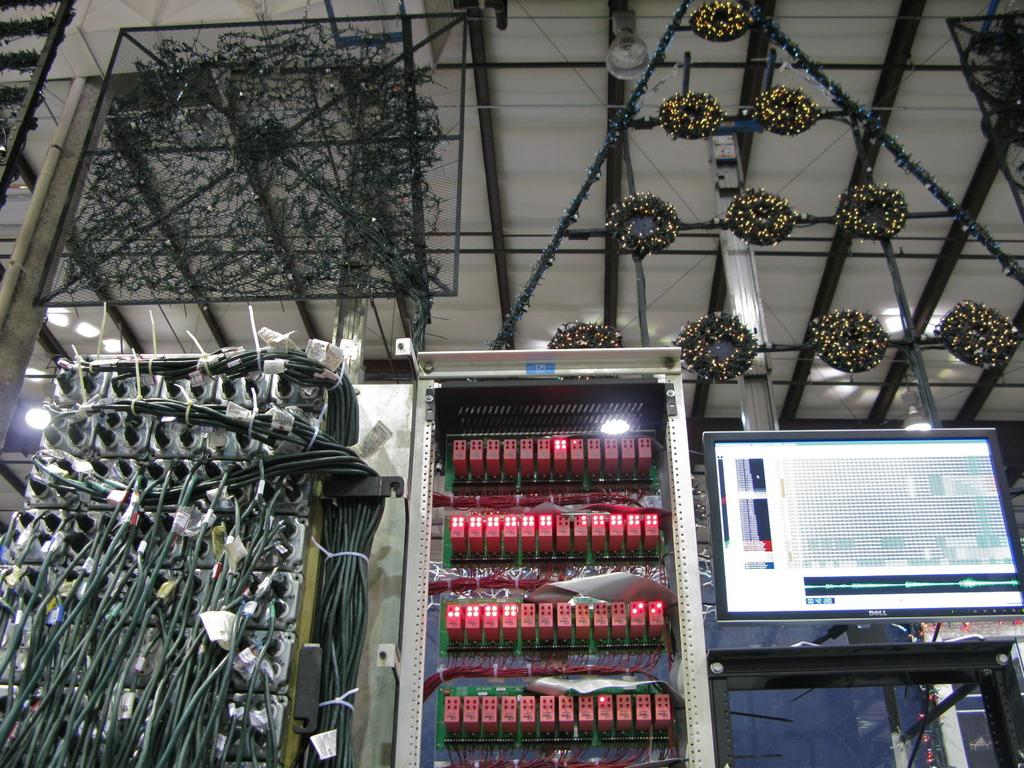Computer-monitor: (694, 444, 953, 653)
